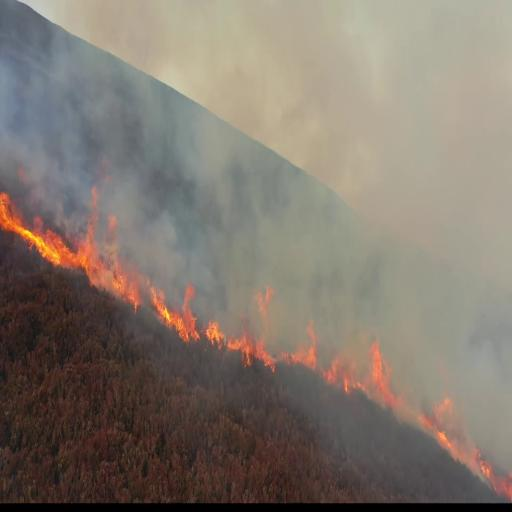fire: (0, 190, 89, 274), (151, 280, 201, 344), (371, 340, 402, 418)
smoke: (132, 53, 311, 273), (424, 207, 512, 379)
